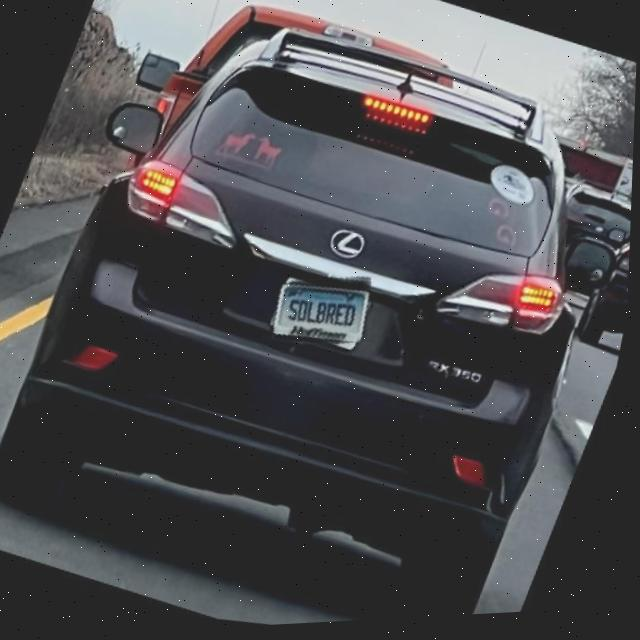LicensePlate: (274, 287, 373, 347)
